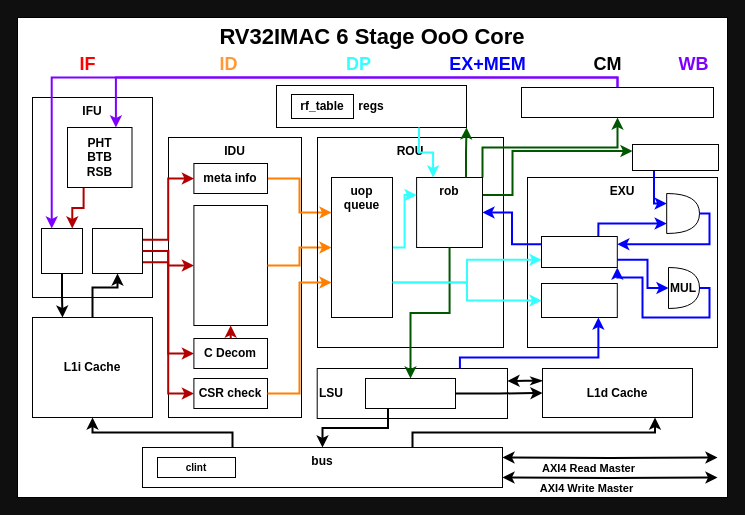
The diagram is 745 pixels wide and 515 high, and some of its shapes have lost their labels. The shapes that lost their labels are listed below. From the top down, each one's centre as x and y in pixels, then its label:
At point (617, 102): "WBU".
At point (675, 157): "csr_regs".
At point (683, 213): "ALU".
At point (61, 251): "pc_ifu".
At point (117, 251): "inst.".
At point (230, 265): "Decode (Chisel)".
At point (578, 252): "OoO RS".
At point (578, 300): "IO Queue".
At point (410, 393): "Store Queue".
